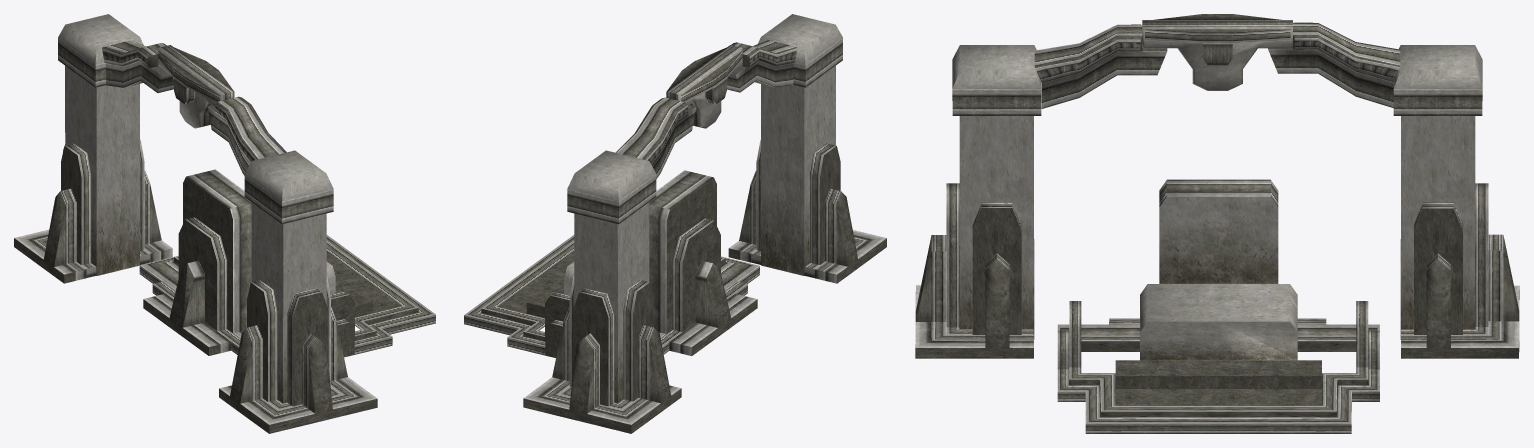
The model's file is DWARF_PALACE_MAINHALL_THRONE.fbx.
3 renders of one model, left to right at view 1: azimuth 30°, elevation 25°; view 2: azimuth 150°, elevation 25°; view 3: azimuth 270°, elevation 25°, orthographic. The views are drawn at different scales.
Parts seen in each view (by area): view 1: DWARF_PALACE_MAINHALL_THRONE; view 2: DWARF_PALACE_MAINHALL_THRONE; view 3: DWARF_PALACE_MAINHALL_THRONE.
Part boxes in pixels (x1,y1,x2,y2): DWARF_PALACE_MAINHALL_THRONE: (14,14,435,433); DWARF_PALACE_MAINHALL_THRONE: (464,14,886,433); DWARF_PALACE_MAINHALL_THRONE: (915,14,1519,433).
Bounding box in the file's own units: 52622 × 54308 × 97565.
Materials: 6 (6 with a texture image).
